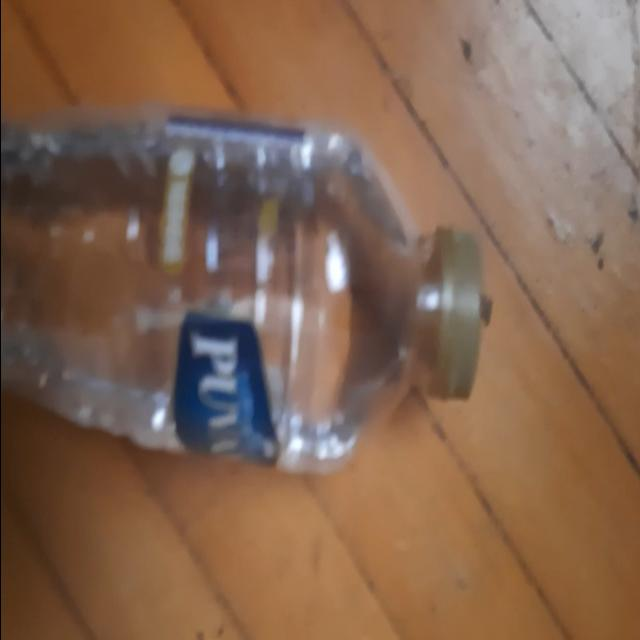Plastic: (0, 103, 489, 475)
